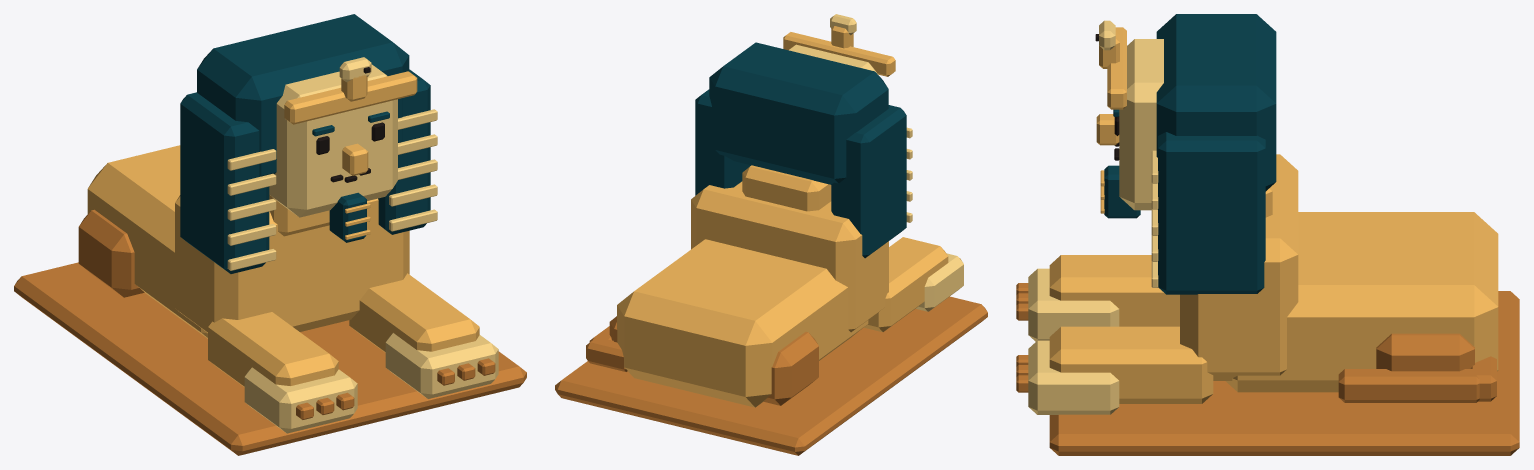
The model's file is esfinge-blockie.obj.
3 views of the same model, side by side, from view 1: azimuth 30°, elevation 25°; view 2: azimuth 150°, elevation 25°; view 3: azimuth 270°, elevation 25° (orthographic). The views are drawn at different scales.
Visible parts, largest first — view 1: esfinge-blockie; view 2: esfinge-blockie; view 3: esfinge-blockie.
Part boxes in pixels (left/top/right/bottom): esfinge-blockie: left=14, top=14, right=526, bottom=455; esfinge-blockie: left=555, top=14, right=987, bottom=455; esfinge-blockie: left=1016, top=14, right=1519, bottom=455.
Bounding box in the file's own units: 2.35 × 2.61 × 3.32.
1 material, 1 textured.
